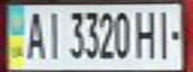0: (115, 8, 133, 60)
2: (100, 8, 118, 60)
3: (63, 7, 84, 60), (81, 8, 100, 60)
A: (21, 7, 48, 61)
H: (133, 7, 160, 60)
I: (151, 6, 181, 60), (42, 7, 63, 61)
